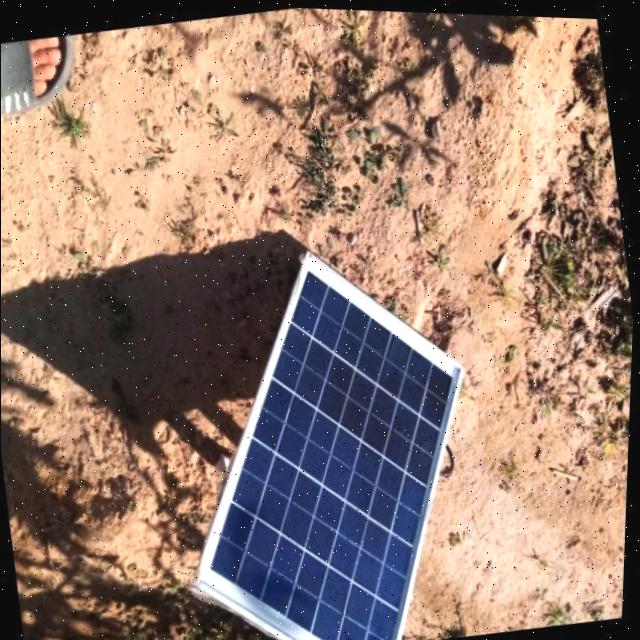Normal Solar Panel: (150, 220, 509, 640)
